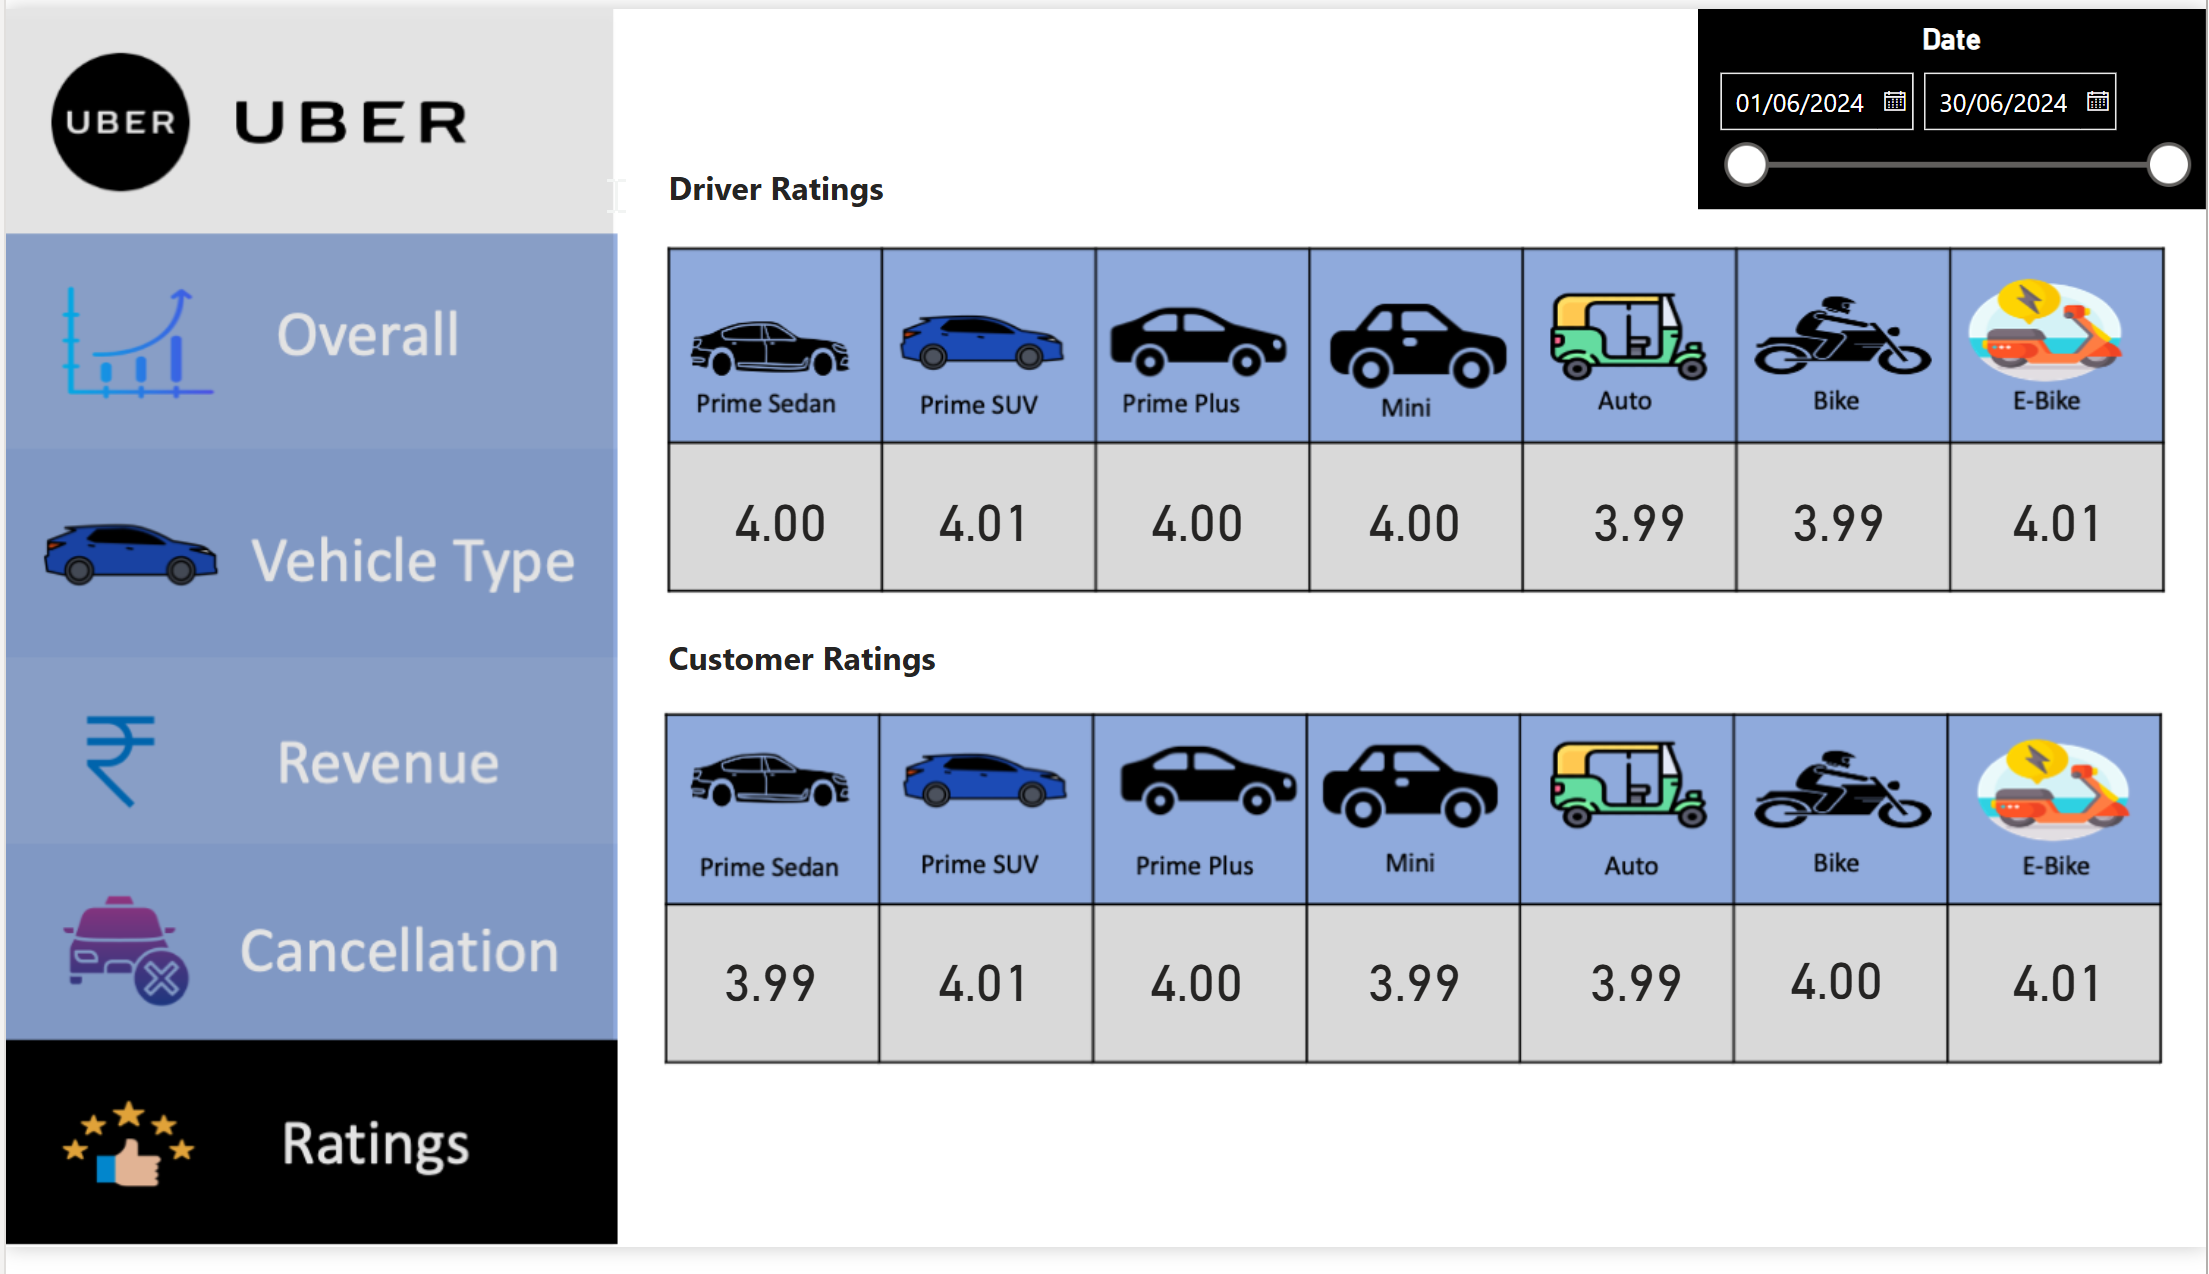

The dashboard page shown, as its layout file describes it:
{"tool":"powerbi","page":{"name":"Ratings","canvas":[1280,720],"ordinal":4},"visuals":[{"type":"actionButton","box":[0,258.2,355.7,112.6],"z":0},{"type":"actionButton","box":[0,380.4,355.7,103],"z":1000},{"type":"actionButton","box":[0,493,355.7,98.9],"z":2000},{"type":"actionButton","box":[0,131.8,355.7,119.5],"z":3000},{"type":"card","fields":{"Values":["Avg(june.Driver Rating)"]},"box":[399.7,258.2,103,76.9],"z":4000},{"type":"card","fields":{"Values":["Avg(june.Driver Rating)"]},"box":[899.6,258.2,101.6,76.9],"z":5000},{"type":"card","fields":{"Values":["Avg(june.Driver Rating)"]},"box":[1014.9,258.2,103,76.9],"z":6000},{"type":"card","fields":{"Values":["Avg(june.Driver Rating)"]},"box":[517.8,258.2,103,76.9],"z":7000},{"type":"card","fields":{"Values":["Avg(june.Driver Rating)"]},"box":[642.7,258.2,101.6,76.9],"z":8000},{"type":"card","fields":{"Values":["Avg(june.Driver Rating)"]},"box":[767.7,258.2,103,76.9],"z":9000},{"type":"card","fields":{"Values":["Avg(june.Driver Rating)"]},"box":[1142.7,258.2,103,76.9],"z":10000},{"type":"card","fields":{"Values":["Avg(june.Customer Rating)"]},"box":[392.9,525.9,102.8,77.1],"z":11000},{"type":"card","fields":{"Values":["Avg(june.Customer Rating)"]},"box":[1014,524.4,102.8,77.1],"z":12000},{"type":"card","fields":{"Values":["Avg(june.Customer Rating)"]},"box":[897.7,525.9,102.8,77.1],"z":13000},{"type":"card","fields":{"Values":["Avg(june.Customer Rating)"]},"box":[640.8,525.9,102.8,77.1],"z":14000},{"type":"card","fields":{"Values":["Avg(june.Customer Rating)"]},"box":[518.3,525.9,102.8,77.1],"z":15000},{"type":"card","fields":{"Values":["Avg(june.Customer Rating)"]},"box":[767.7,525.9,102.8,77.1],"z":16000},{"type":"card","fields":{"Values":["Avg(june.Customer Rating)"]},"box":[1142.7,526,103,76.9],"z":17000},{"type":"textbox","box":[380.4,86.5,147,45.3],"z":18000},{"type":"textbox","box":[380.4,359.8,174.4,46.7],"z":19000},{"type":"slicer","title":"Date","fields":{"Values":["bengaluru_ride_data_updated (1).Date"]},"box":[984.7,0,295.3,116.7],"z":19001}]}

Visuals, with their boxes in screenshot pixels (x1, y1, x2, y2), scaled from the page's 1280x720 canvas onto the 2209x1274 screenshot:
actionButton: 0,457,614,656
actionButton: 0,673,614,855
actionButton: 0,872,614,1047
actionButton: 0,233,614,445
card - Avg(june.Driver Rating): 690,457,868,593
card - Avg(june.Driver Rating): 1553,457,1728,593
card - Avg(june.Driver Rating): 1751,457,1929,593
card - Avg(june.Driver Rating): 894,457,1071,593
card - Avg(june.Driver Rating): 1109,457,1284,593
card - Avg(june.Driver Rating): 1325,457,1503,593
card - Avg(june.Driver Rating): 1972,457,2150,593
card - Avg(june.Customer Rating): 678,931,855,1067
card - Avg(june.Customer Rating): 1750,928,1927,1064
card - Avg(june.Customer Rating): 1549,931,1727,1067
card - Avg(june.Customer Rating): 1106,931,1283,1067
card - Avg(june.Customer Rating): 894,931,1072,1067
card - Avg(june.Customer Rating): 1325,931,1502,1067
card - Avg(june.Customer Rating): 1972,931,2150,1067
textbox: 656,153,910,233
textbox: 656,637,957,719
"Date" slicer: 1699,0,2208,206
